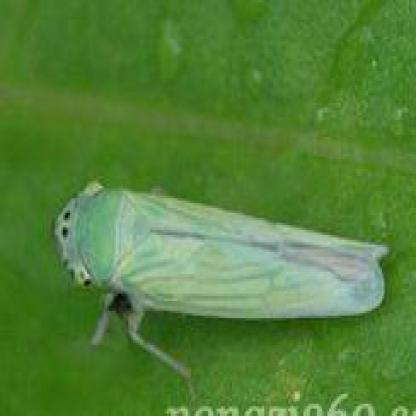Green-Leafhopper: (44, 175, 397, 377)
